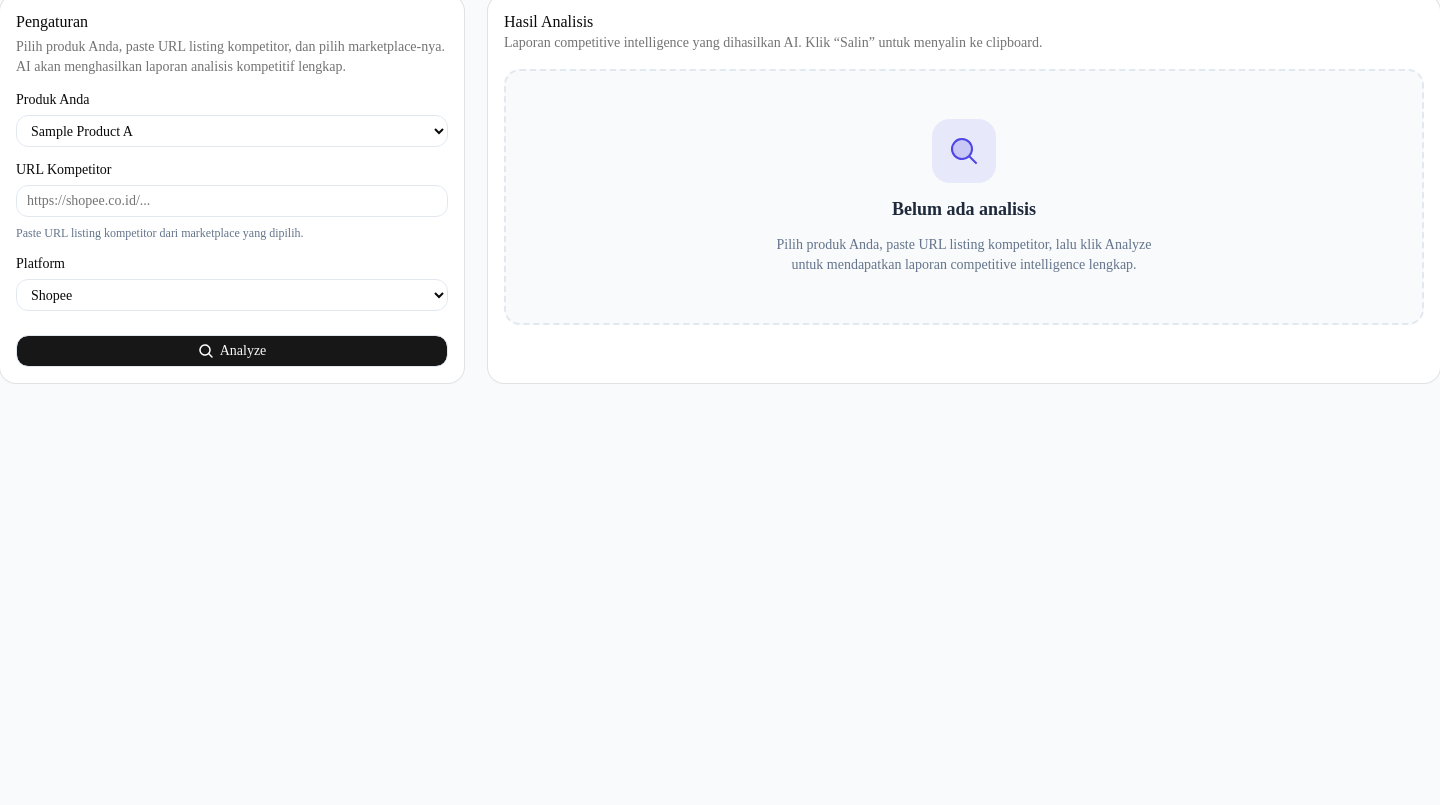
Test: CompetitorAnalyzer › renders the full analysis report (header, strengths, weaknesses, content gaps, recommendations, overall assessment) on success
// Fill in the URL and submit
In the field with test id "competitor-url": (232, 201) [16,185,448,217], type "https://shopee.co.id/sample-product"
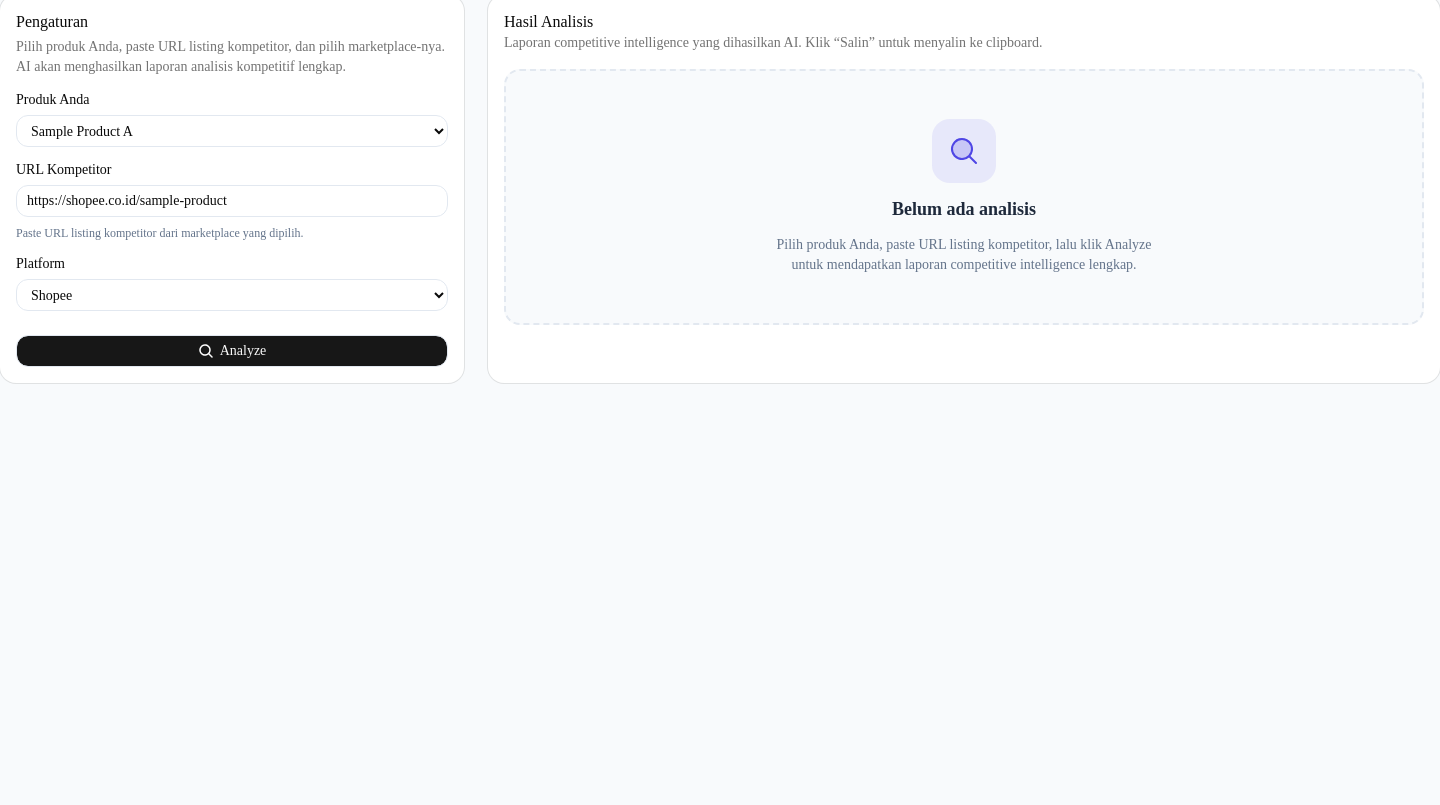
Click the button with test id "competitor-analyze": (232, 351) [16,335,448,367]
(page scrolled)
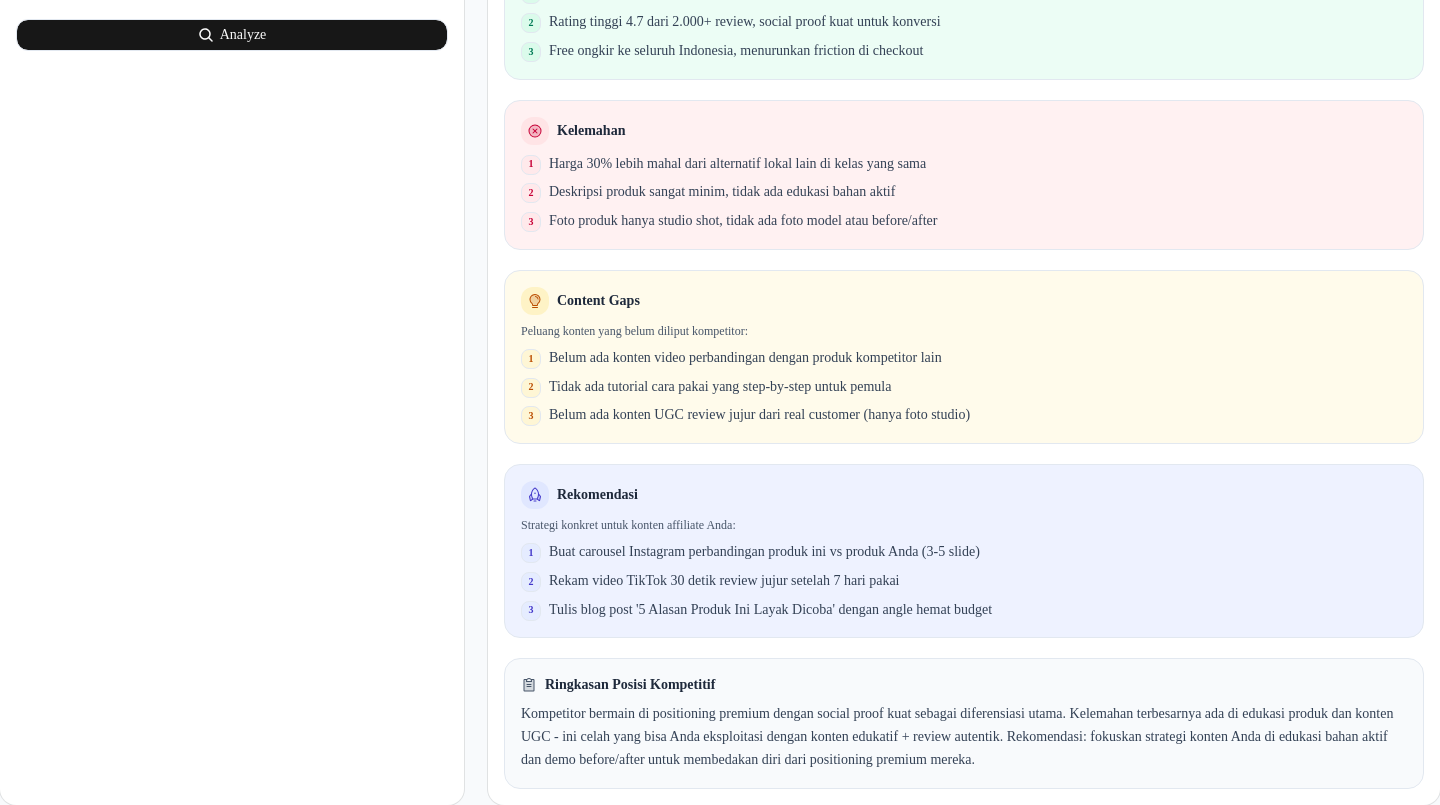
Check: the element with test id "competitor-weaknesses" is shown, box [504,100,1424,250]
Check: the list item with test id "competitor-weaknesses-item-0" shows "Harga 30% lebih mahal", box [549,156,926,170]
Check: the element with test id "competitor-content-gaps" is shown, box [504,270,1424,444]
